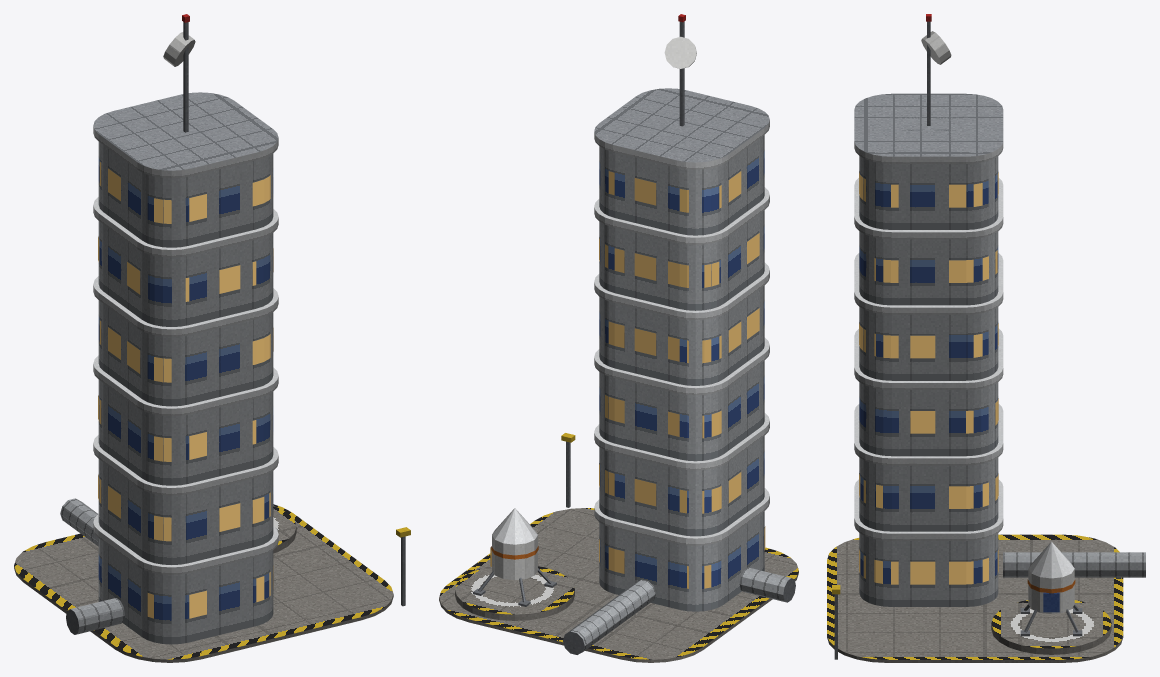
The model's file is mars_3_inhab_vez_b.glb.
The picture shows the model from 3 angles, left to right: view 1: azimuth 30°, elevation 25°; view 2: azimuth 150°, elevation 25°; view 3: azimuth 270°, elevation 25°; orthographic projection. The views are drawn at different scales.
Visible parts, largest first — view 1: inhab_vez_b, noc; view 2: inhab_vez_b, noc; view 3: inhab_vez_b, noc.
Boxes of the visible parts, <box> form: inhab_vez_b: <box>14,14,410,662</box>; noc: <box>98,161,273,618</box>; inhab_vez_b: <box>439,14,798,662</box>; noc: <box>490,171,765,588</box>; inhab_vez_b: <box>827,14,1145,662</box>; noc: <box>859,171,998,584</box>.
Size of the model in its own units: 13.78 by 26.97 by 13.78.
1 material, 1 textured.
